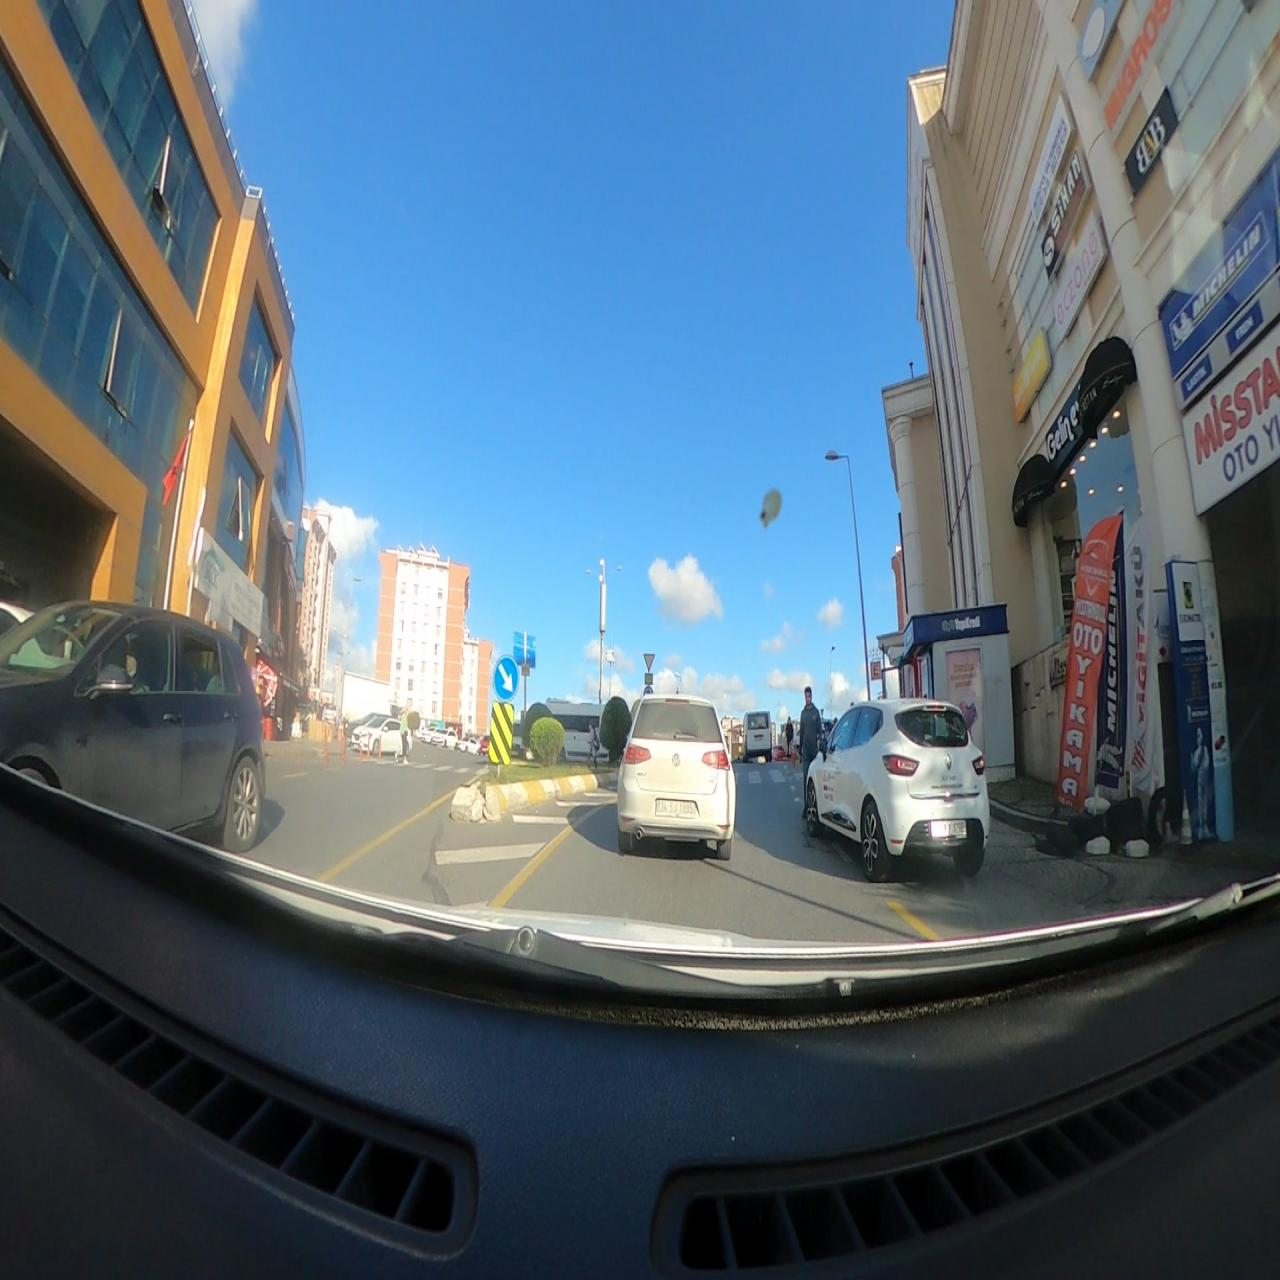SignStore: (1159, 156, 1278, 372), (192, 527, 264, 641)
